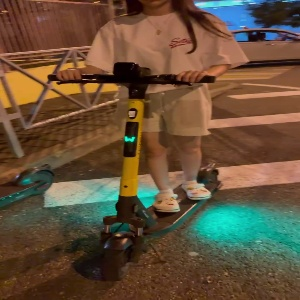human on a scooter: (45, 1, 250, 282)
